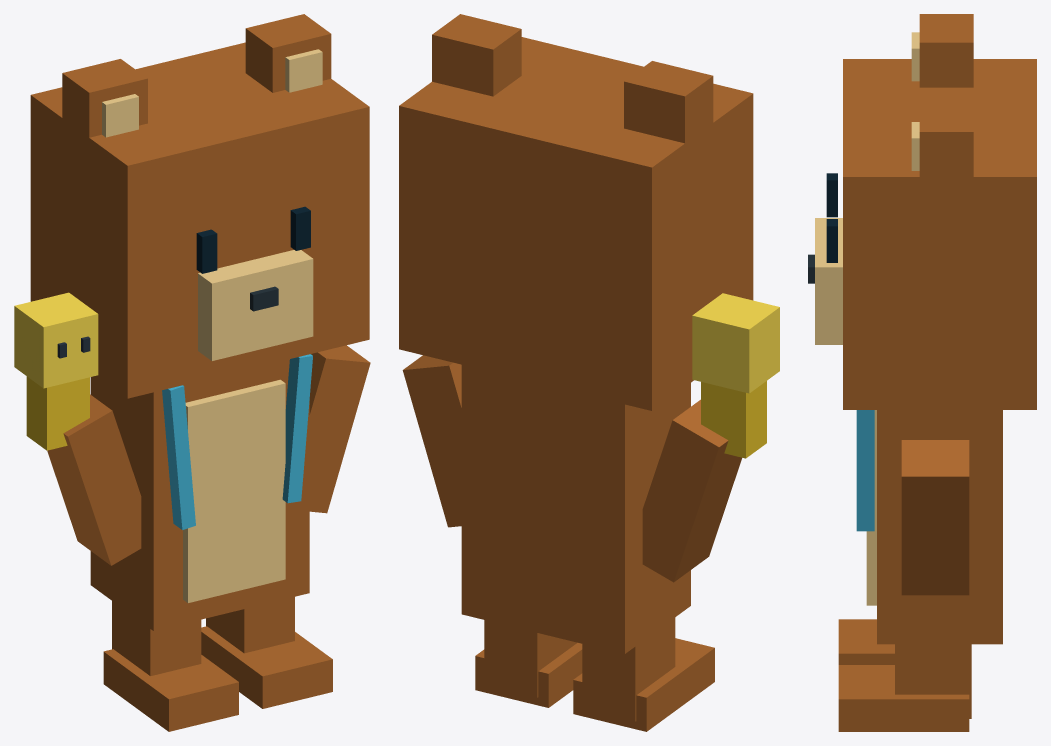
File: bear.glb
The picture shows the model from 3 angles, left to right: view 1: azimuth 30°, elevation 25°; view 2: azimuth 150°, elevation 25°; view 3: azimuth 270°, elevation 25°; orthographic projection. The views are drawn at different scales.
Visible parts, largest first — view 1: bear-part-00, bear-part-02, bear-part-01, bear-part-13, bear-part-05, bear-part-04, bear-part-08, bear-part-19, bear-part-07, bear-part-09, bear-part-11, bear-part-03 (+9 smaller); view 2: bear-part-00, bear-part-01, bear-part-05, bear-part-19, bear-part-08, bear-part-09, bear-part-11, bear-part-03, bear-part-04, bear-part-06, bear-part-20, bear-part-07; view 3: bear-part-00, bear-part-01, bear-part-08, bear-part-07, bear-part-11, bear-part-09, bear-part-06, bear-part-13, bear-part-18, bear-part-04, bear-part-02, bear-part-15 (+3 smaller).
Boxes of the visible parts, box(x1,y1,x2,y2) form: bear-part-00: box(30, 42, 369, 398); bear-part-02: box(183, 379, 285, 602); bear-part-01: box(90, 359, 309, 630); bear-part-13: box(198, 250, 313, 360); bear-part-05: box(47, 394, 141, 565); bear-part-04: box(103, 649, 238, 731); bear-part-08: box(309, 345, 370, 513); bear-part-19: box(14, 292, 98, 388); bear-part-07: box(201, 626, 332, 708); bear-part-09: box(62, 59, 147, 156); bear-part-11: box(245, 14, 331, 92); bear-part-03: box(112, 601, 201, 676); bear-part-00: box(399, 37, 753, 410); bear-part-01: box(461, 365, 690, 653); bear-part-05: box(642, 399, 741, 582); bear-part-19: box(692, 293, 779, 393); bear-part-08: box(402, 355, 461, 527); bear-part-09: box(624, 61, 713, 164); bear-part-11: box(432, 14, 521, 96); bear-part-03: box(582, 617, 675, 721); bear-part-04: box(573, 638, 714, 731); bear-part-06: box(484, 620, 576, 697); bear-part-20: box(701, 381, 766, 458); bear-part-07: box(475, 642, 582, 707); bear-part-00: box(843, 59, 1036, 409); bear-part-01: box(877, 410, 1002, 644); bear-part-08: box(901, 440, 969, 595); bear-part-07: box(838, 665, 969, 731); bear-part-11: box(919, 103, 973, 197); bear-part-09: box(919, 14, 973, 87); bear-part-06: box(895, 644, 971, 718); bear-part-13: box(815, 218, 842, 344); bear-part-18: box(856, 410, 874, 531); bear-part-04: box(838, 619, 894, 664); bear-part-02: box(866, 410, 876, 605); bear-part-15: box(826, 173, 837, 217).
Bounding box in the file's own units: 1.68 × 3.03 × 1.02.
